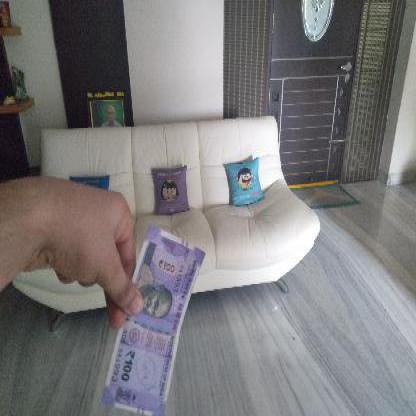New100Front: (111, 217, 201, 415)
